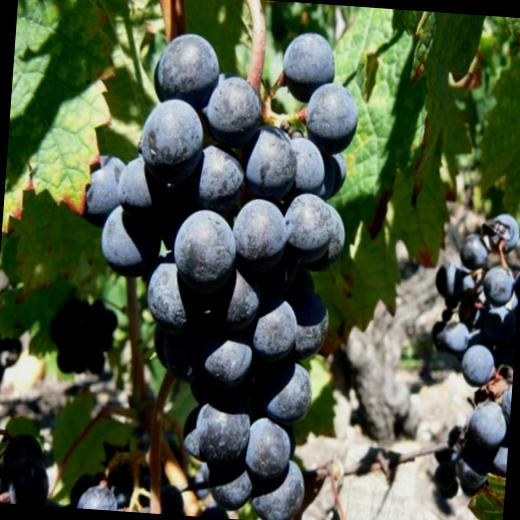Orange: (61, 16, 363, 520), (418, 209, 520, 502), (68, 438, 188, 512), (46, 294, 120, 379), (5, 457, 50, 505), (0, 433, 44, 475), (0, 457, 7, 500)
